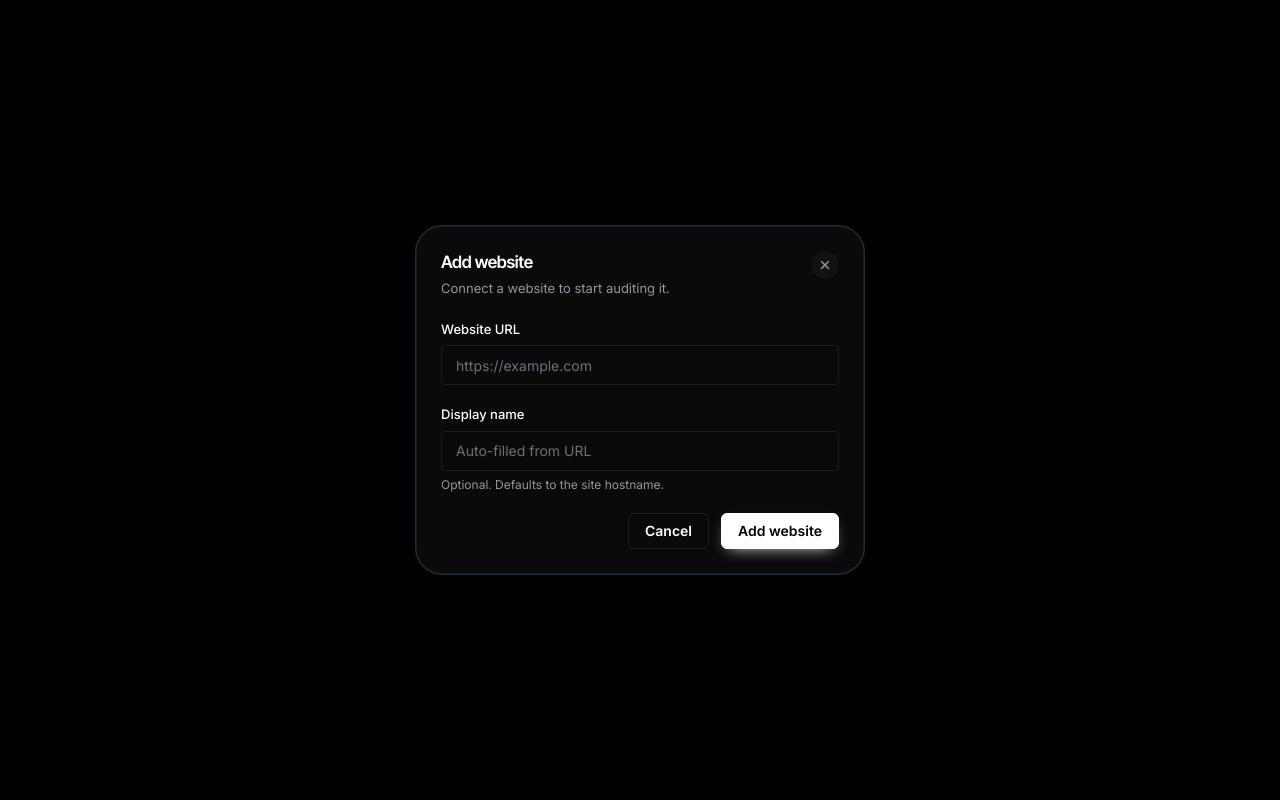
AddWebsiteModal › shows the field error from a problem response and stays open
Type "https://intranet.local" into the field labelled "Website URL" at (640, 365), box [441,345,839,385]
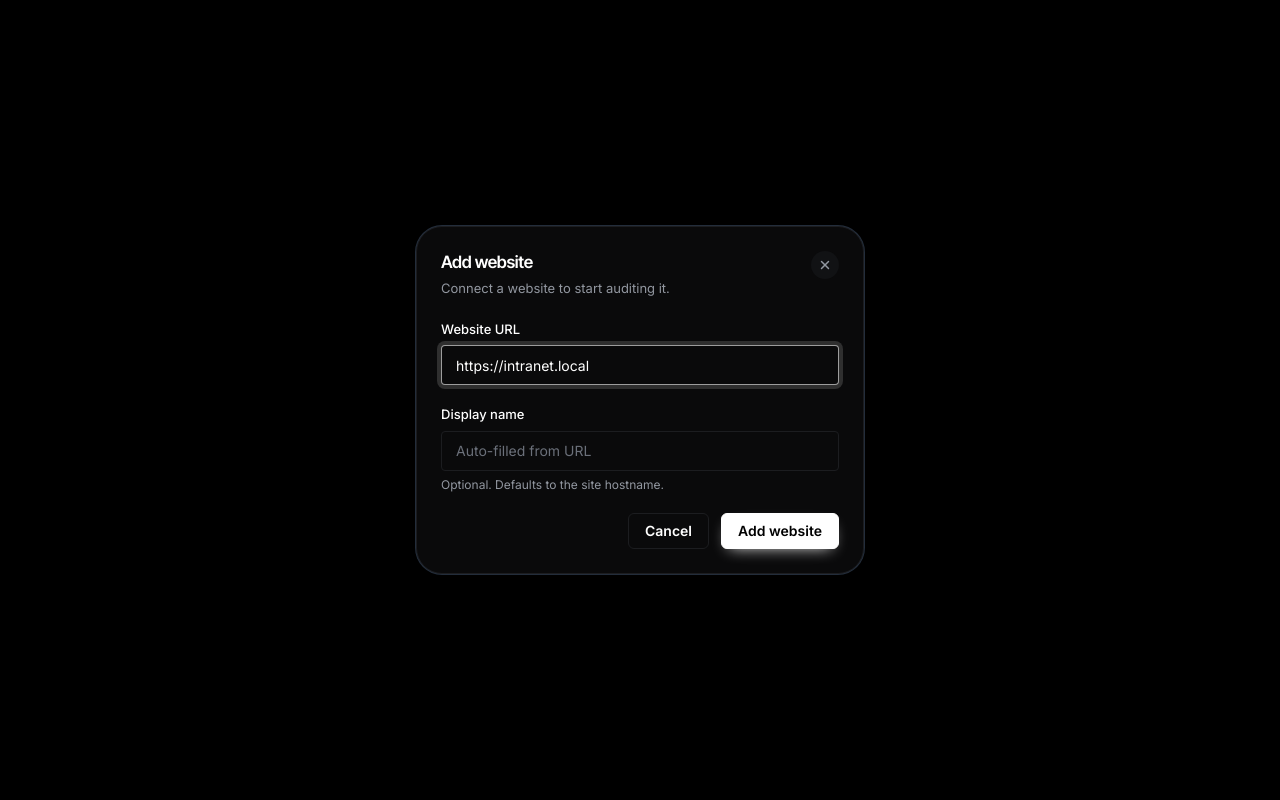
Type "Intranet" into the field labelled "Display name" at (640, 450), box [441,430,839,470]
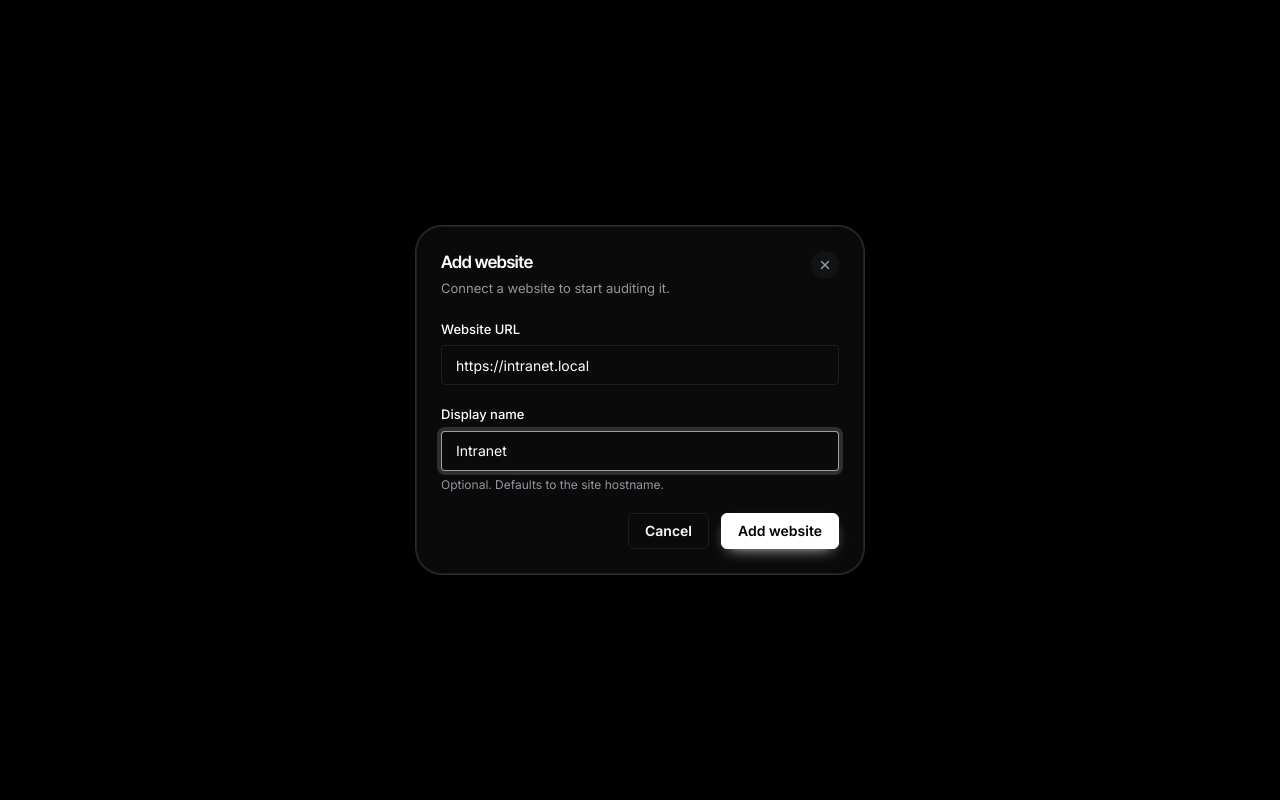
Click the button "Add website" at (780, 530), box [721,512,839,548]
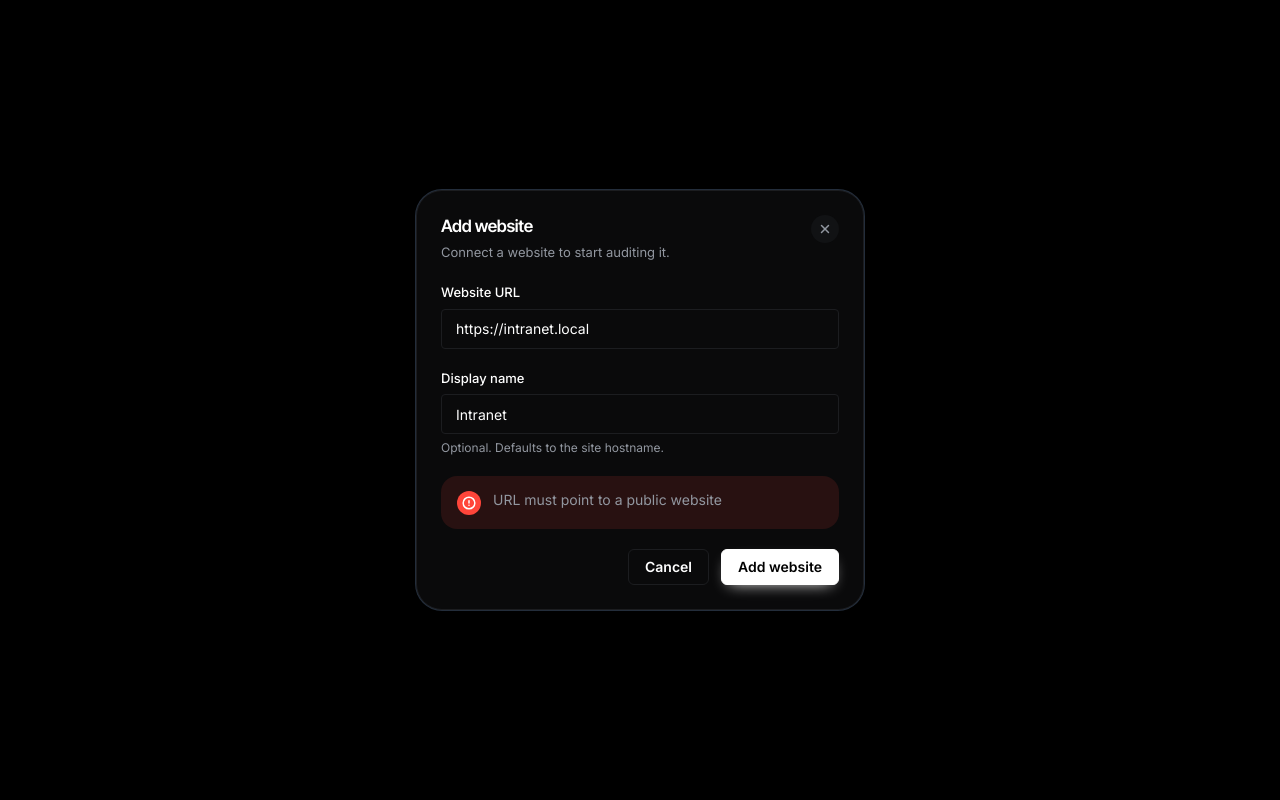
Result: the text "URL must point to a public website" is shown at [493,491,722,508]
